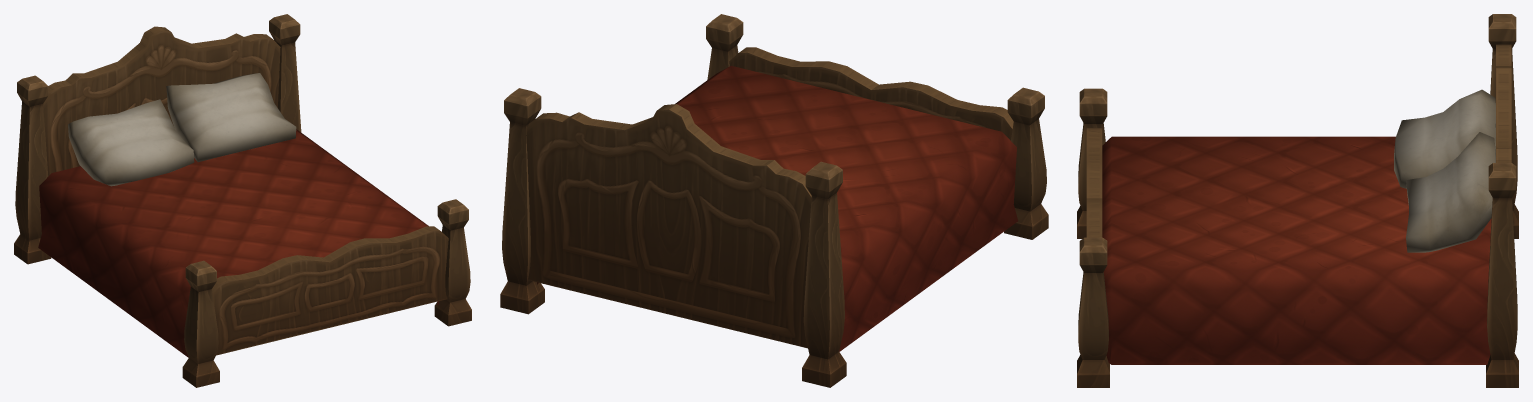
The model's file is Bed.FBX.
3 renders of one model, left to right at view 1: azimuth 30°, elevation 25°; view 2: azimuth 150°, elevation 25°; view 3: azimuth 270°, elevation 25°, orthographic. The views are drawn at different scales.
Visible parts, largest first — view 1: Bed; view 2: Bed; view 3: Bed.
Boxes of the visible parts, x1,y1,x2,y2 form: Bed: [14, 14, 471, 387]; Bed: [500, 14, 1048, 387]; Bed: [1077, 14, 1518, 387].
Bounding box in the file's own units: 2089 × 1424 × 2394.
